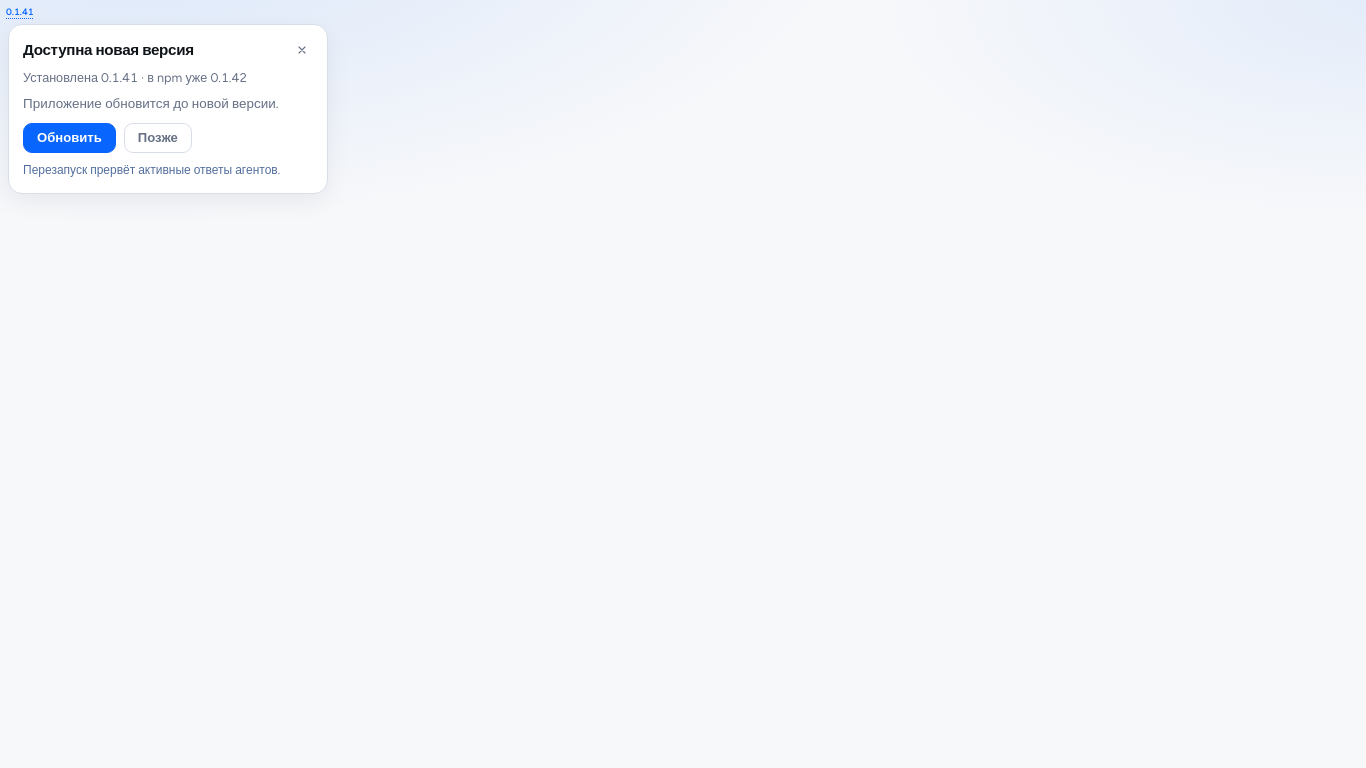
Test: AppUpdateNotice › shows why the install failed and offers another try
This screenshot has width=1366, height=768.
Click the button "Обновить" at (69, 138), box [23, 123, 116, 153]
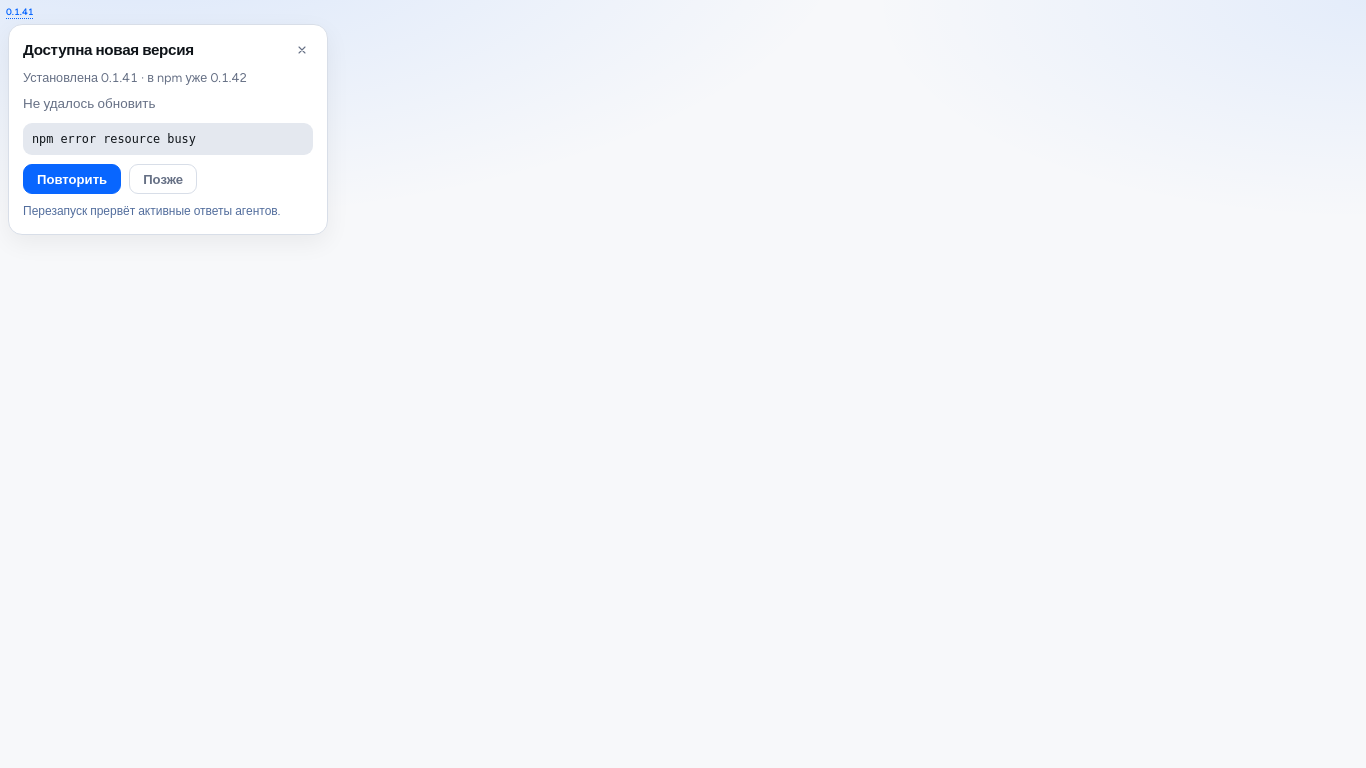
expect the text "Не удалось обновить" is shown: met, box [23, 95, 156, 111]
expect the text "npm error resource busy" is shown: met, box [23, 123, 313, 155]
expect the button "Повторить" is shown: met, box [23, 164, 121, 194]
